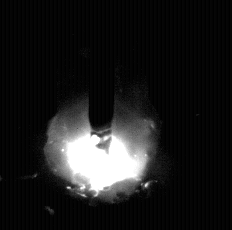arame: (89, 0, 115, 137)
poca: (44, 0, 157, 230)
